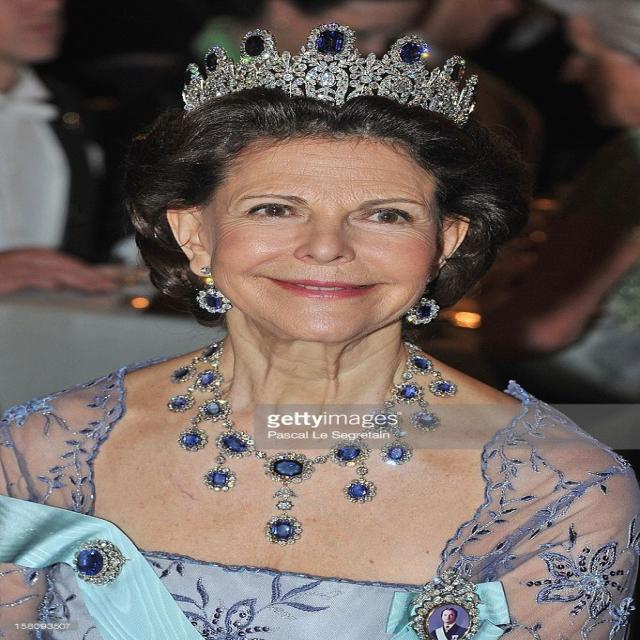Earring: (398, 278, 446, 339), (190, 262, 234, 326)
